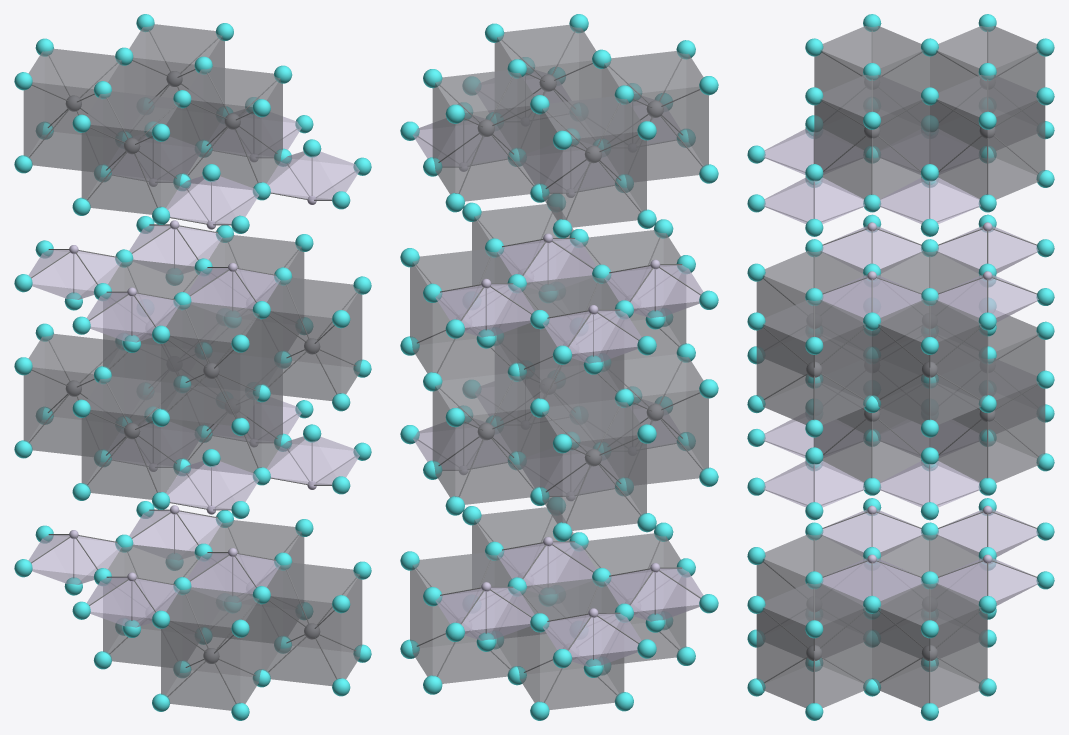
The model's file is t-PbSnF4.glb.
3 views of the same model, side by side, from view 1: azimuth 30°, elevation 25°; view 2: azimuth 150°, elevation 25°; view 3: azimuth 270°, elevation 25° (orthographic). The views are drawn at different scales.
Visible parts, largest first — view 1: Shape_IndexedFaceSet, Shape_IndexedFaceSet.096, atom2_IndexedFaceSet, Shape_Cylinder, atom0_IndexedFaceSet, atom1_IndexedFaceSet; view 2: Shape_IndexedFaceSet, Shape_IndexedFaceSet.096, atom2_IndexedFaceSet, Shape_Cylinder, atom0_IndexedFaceSet, atom1_IndexedFaceSet; view 3: Shape_IndexedFaceSet, Shape_IndexedFaceSet.096, atom2_IndexedFaceSet, Shape_Cylinder, atom0_IndexedFaceSet, atom1_IndexedFaceSet.
Part boxes in pixels (box(x1,y1,x2,y2)): Shape_IndexedFaceSet: box(23, 24, 362, 710); Shape_IndexedFaceSet.096: box(28, 110, 359, 627); atom2_IndexedFaceSet: box(14, 14, 371, 720); Shape_Cylinder: box(29, 30, 356, 703); atom0_IndexedFaceSet: box(65, 71, 320, 663); atom1_IndexedFaceSet: box(69, 157, 316, 581); Shape_IndexedFaceSet: box(410, 24, 708, 709); Shape_IndexedFaceSet.096: box(413, 70, 703, 666); atom2_IndexedFaceSet: box(400, 14, 718, 720); Shape_Cylinder: box(416, 31, 702, 702); atom0_IndexedFaceSet: box(477, 74, 663, 466); atom1_IndexedFaceSet: box(459, 166, 660, 618); Shape_IndexedFaceSet: box(756, 26, 1045, 708); Shape_IndexedFaceSet.096: box(763, 128, 1038, 605); atom2_IndexedFaceSet: box(747, 14, 1054, 720); Shape_Cylinder: box(763, 30, 1038, 702); atom0_IndexedFaceSet: box(806, 127, 995, 660); atom1_IndexedFaceSet: box(867, 222, 992, 563).
Bounding box in the file's own units: 11.26 × 23.58 × 11.26.
